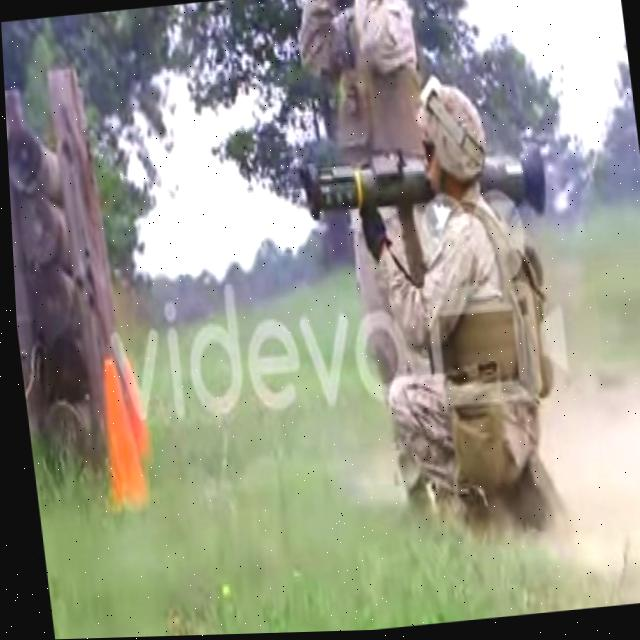rocket: (302, 137, 551, 235)
